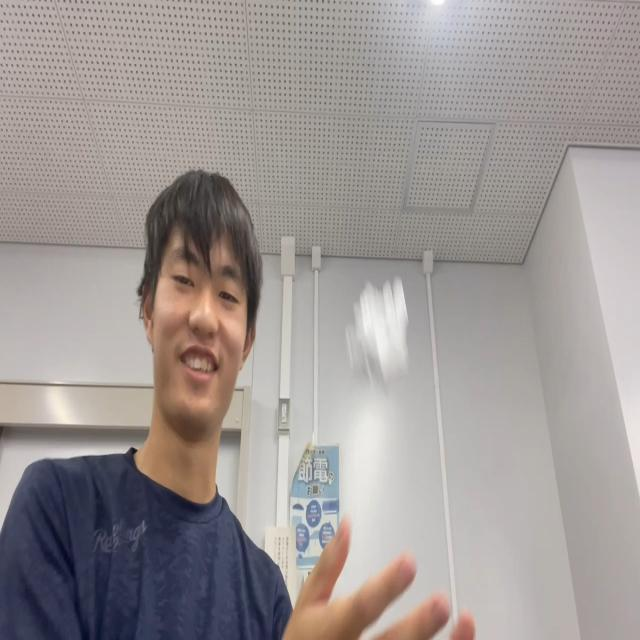paper: (346, 276, 410, 390)
